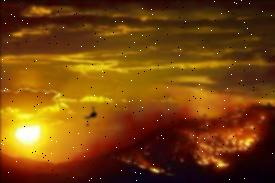fire: (182, 116, 262, 168)
